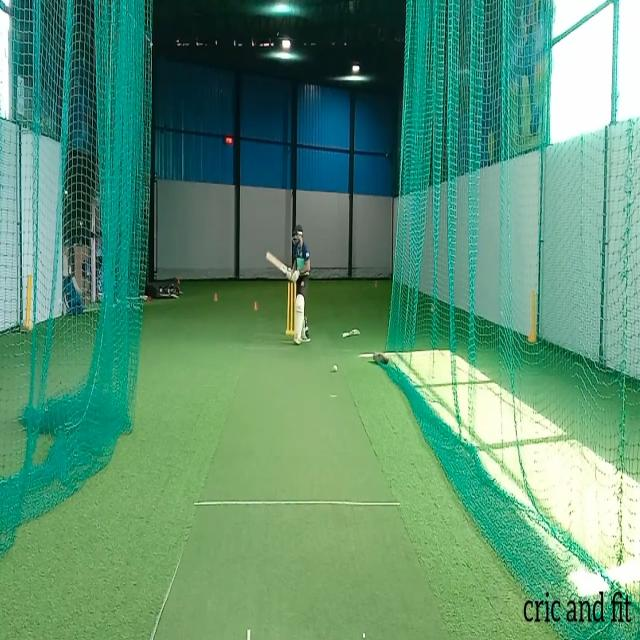batsman: (266, 223, 312, 347)
